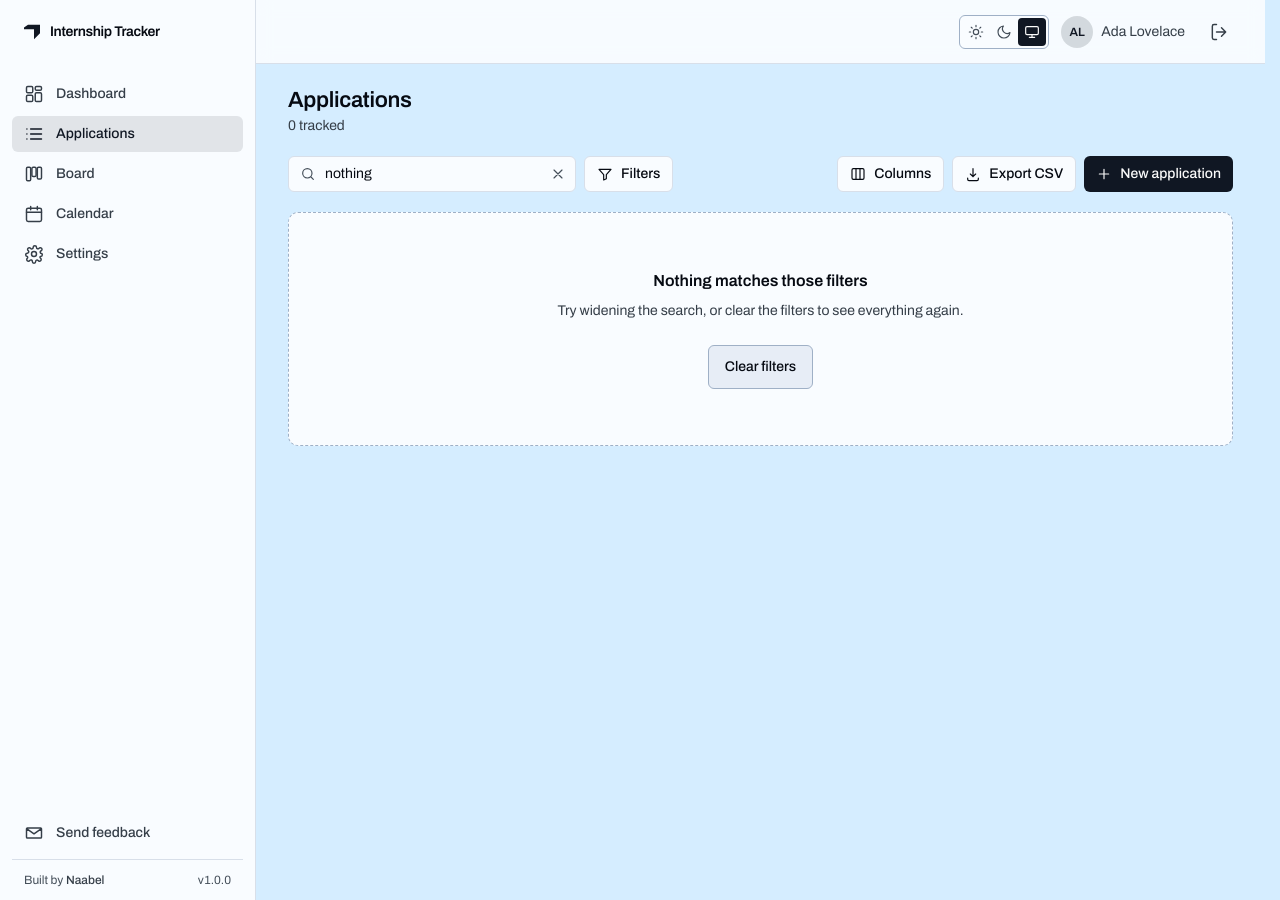
applications table › offers an empty state that clears the filters when a filter matched nothing
Expected: the heading "Nothing matches those filters" is shown, [653,272,868,289]
Click the button "Clear filters" at (760, 367), box [708,345,813,389]
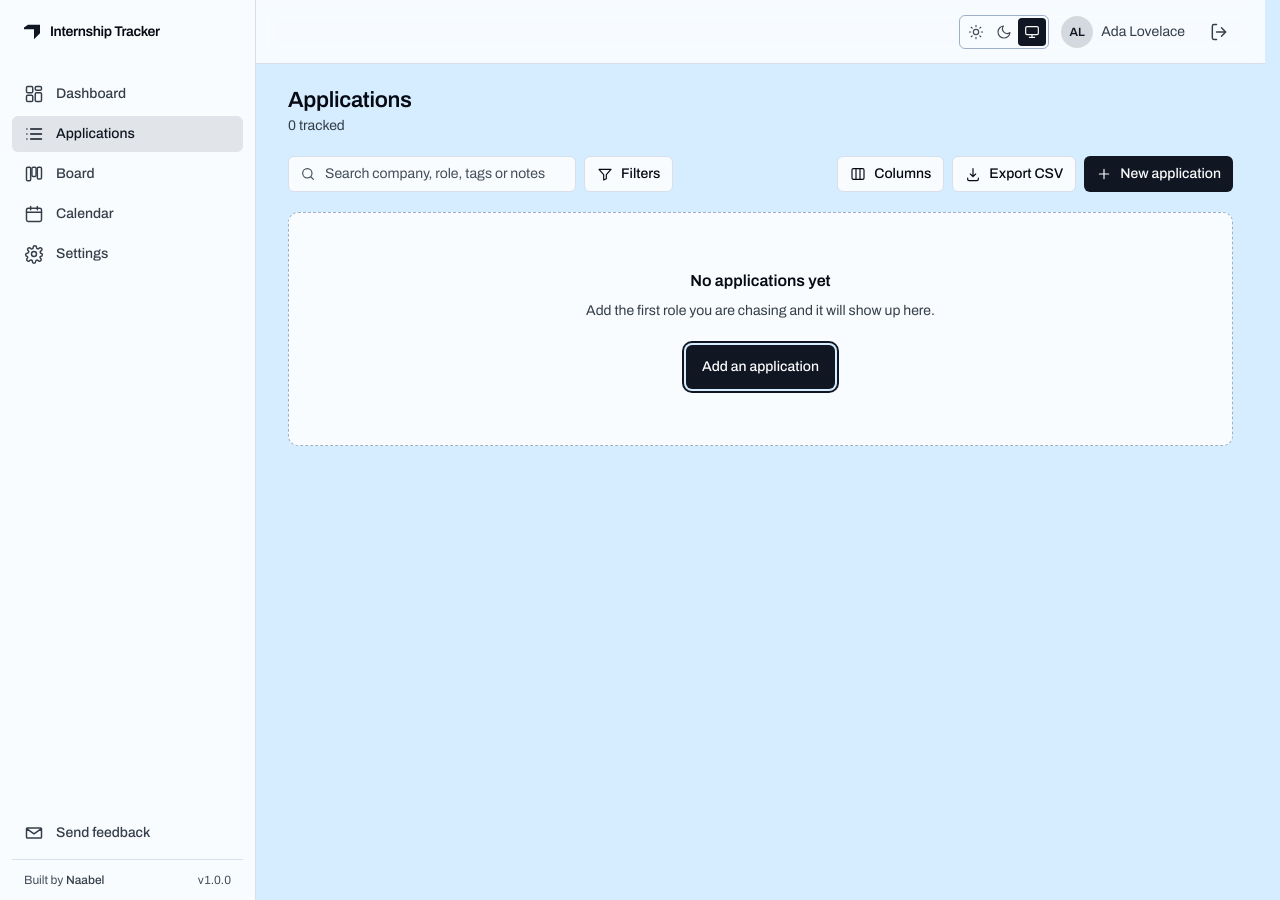
Expected: the heading "No applications yet" is shown, [690,272,831,289]
